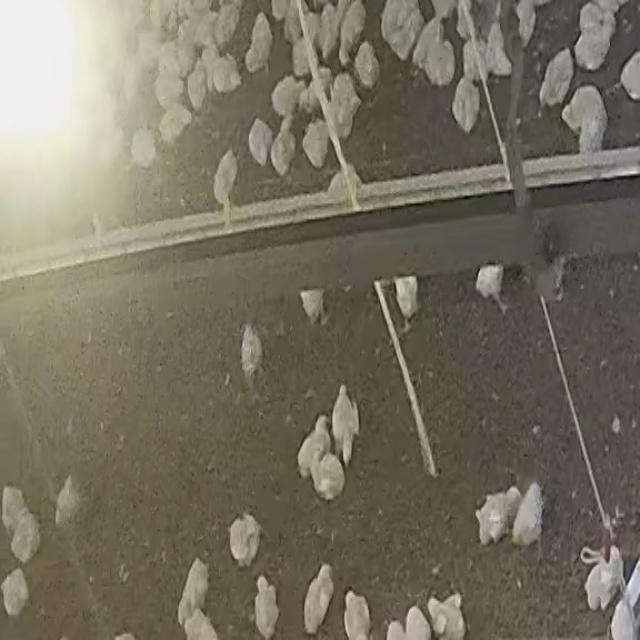chicken: (1, 485, 41, 561), (411, 19, 455, 88), (379, 1, 422, 61), (475, 488, 518, 547), (297, 414, 332, 484), (326, 72, 362, 140), (331, 384, 360, 464), (510, 483, 545, 548), (303, 563, 335, 634), (537, 48, 574, 108), (179, 558, 209, 628), (560, 85, 607, 129), (228, 321, 264, 378), (243, 12, 275, 74), (452, 76, 488, 130), (228, 512, 263, 567), (309, 451, 346, 502), (338, 1, 367, 66), (426, 592, 466, 638), (481, 21, 512, 77), (254, 574, 280, 640), (158, 105, 195, 150), (153, 69, 188, 114), (210, 148, 238, 204), (301, 119, 332, 169), (270, 75, 306, 118), (209, 53, 245, 96), (270, 121, 298, 176), (55, 475, 83, 529), (1, 566, 30, 617), (343, 590, 372, 640), (319, 2, 344, 59), (213, 3, 243, 49), (327, 166, 361, 206), (514, 0, 542, 48), (192, 8, 222, 52), (184, 608, 223, 640), (306, 65, 334, 107), (354, 41, 379, 88), (129, 128, 158, 168), (186, 64, 211, 110), (170, 38, 198, 78), (248, 118, 273, 161), (619, 50, 640, 99)
